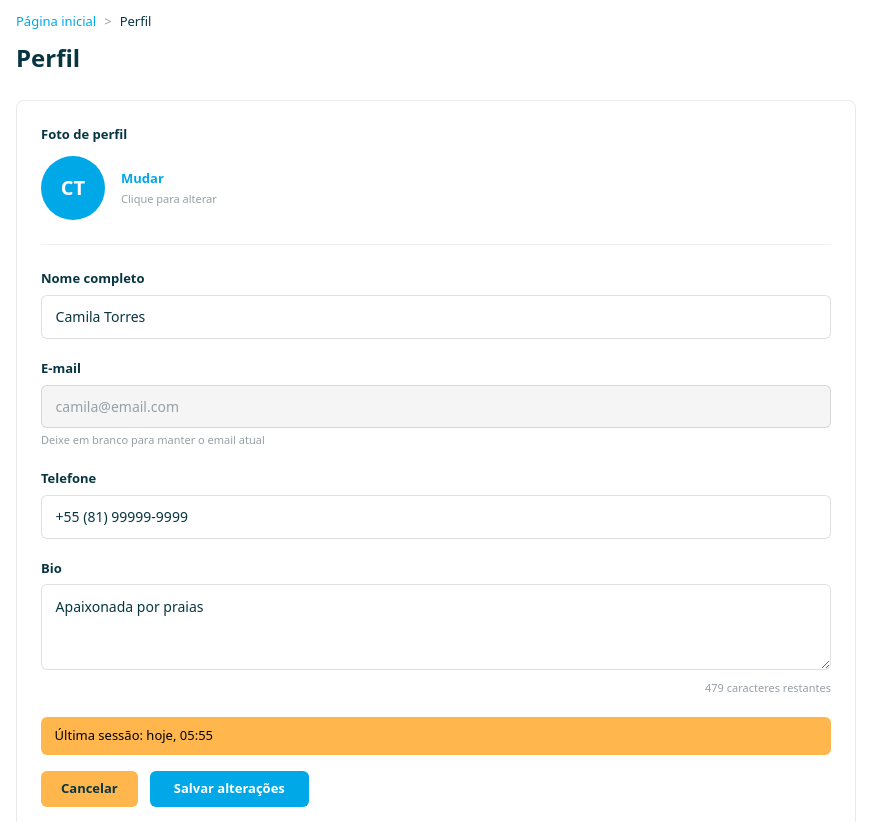
it: AccountComponent › should show success feedback after profile update
Replace the text in the field with test id "name-input" with "Camila Atualizada" at coordinates (436, 317), box [41,295,831,339]
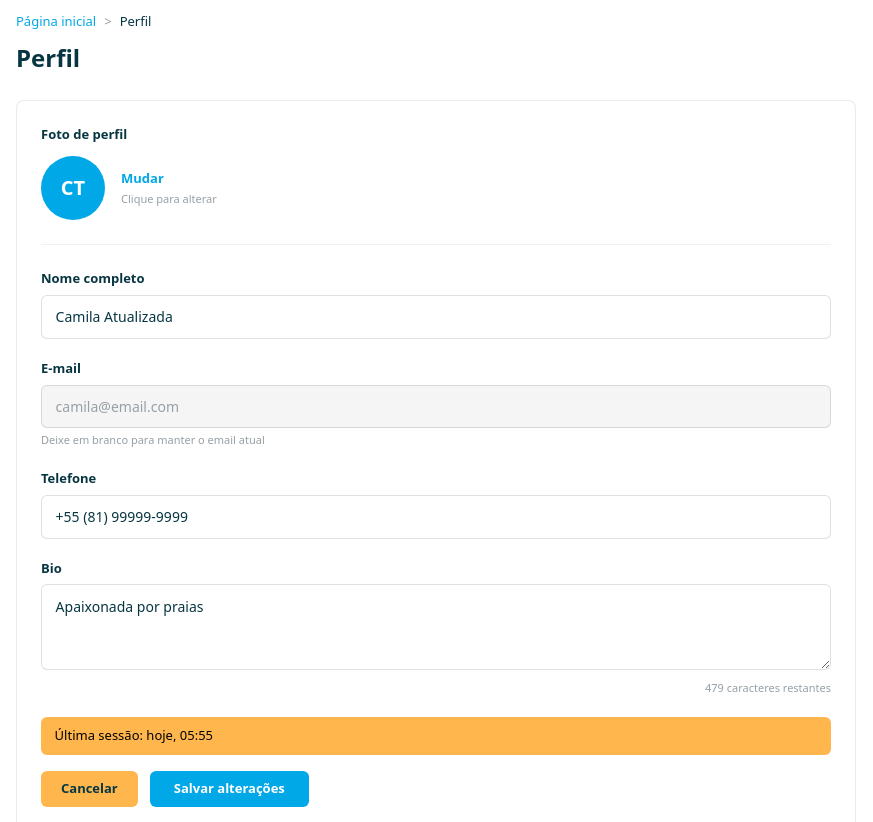
Click the button with test id "save-btn" at coordinates (229, 789), box [150,771,309,807]
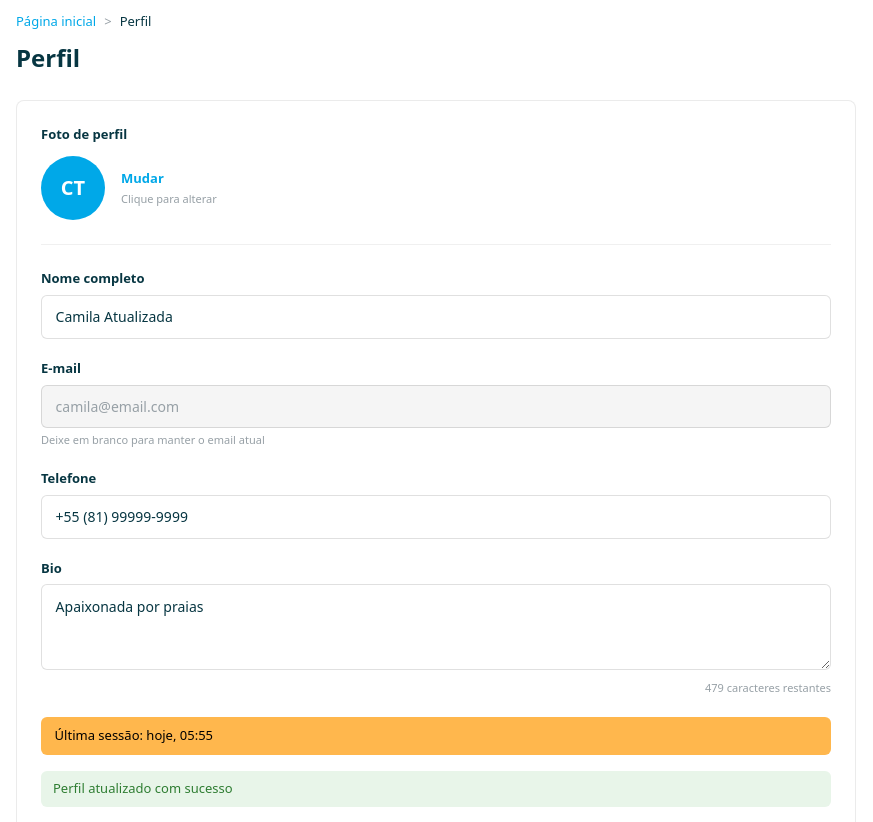
Expected: the text "Perfil atualizado com sucesso" is shown, [41,771,831,807]
